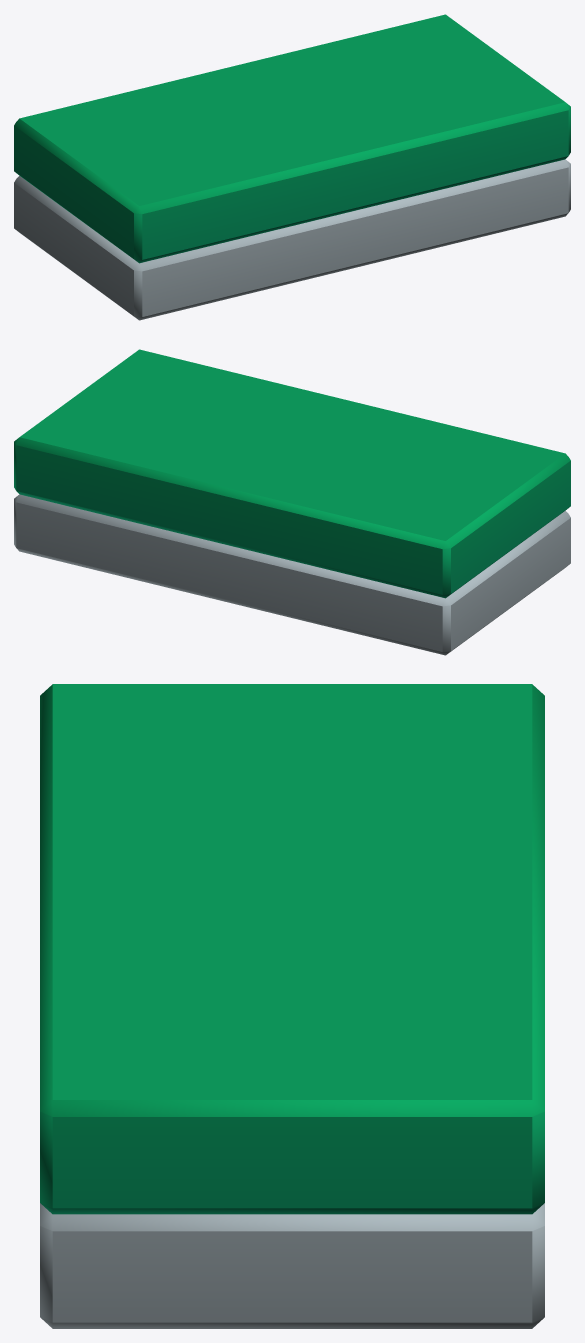
Rendered from platform_4x2x1_green.glb.
3 renders of one model, top to bottom at view 1: azimuth 30°, elevation 25°; view 2: azimuth 150°, elevation 25°; view 3: azimuth 270°, elevation 25°, orthographic. The views are drawn at different scales.
Visible parts, largest first — view 1: platform_4x2x1_green; view 2: platform_4x2x1_green; view 3: platform_4x2x1_green.
Boxes of the visible parts, x1=… form: platform_4x2x1_green: x1=14, y1=14, x2=570, y2=320; platform_4x2x1_green: x1=14, y1=349, x2=570, y2=655; platform_4x2x1_green: x1=40, y1=684, x2=544, y2=1328.
Bounding box in the file's own units: 4 × 1 × 2.
Materials: 1 (1 with a texture image).
